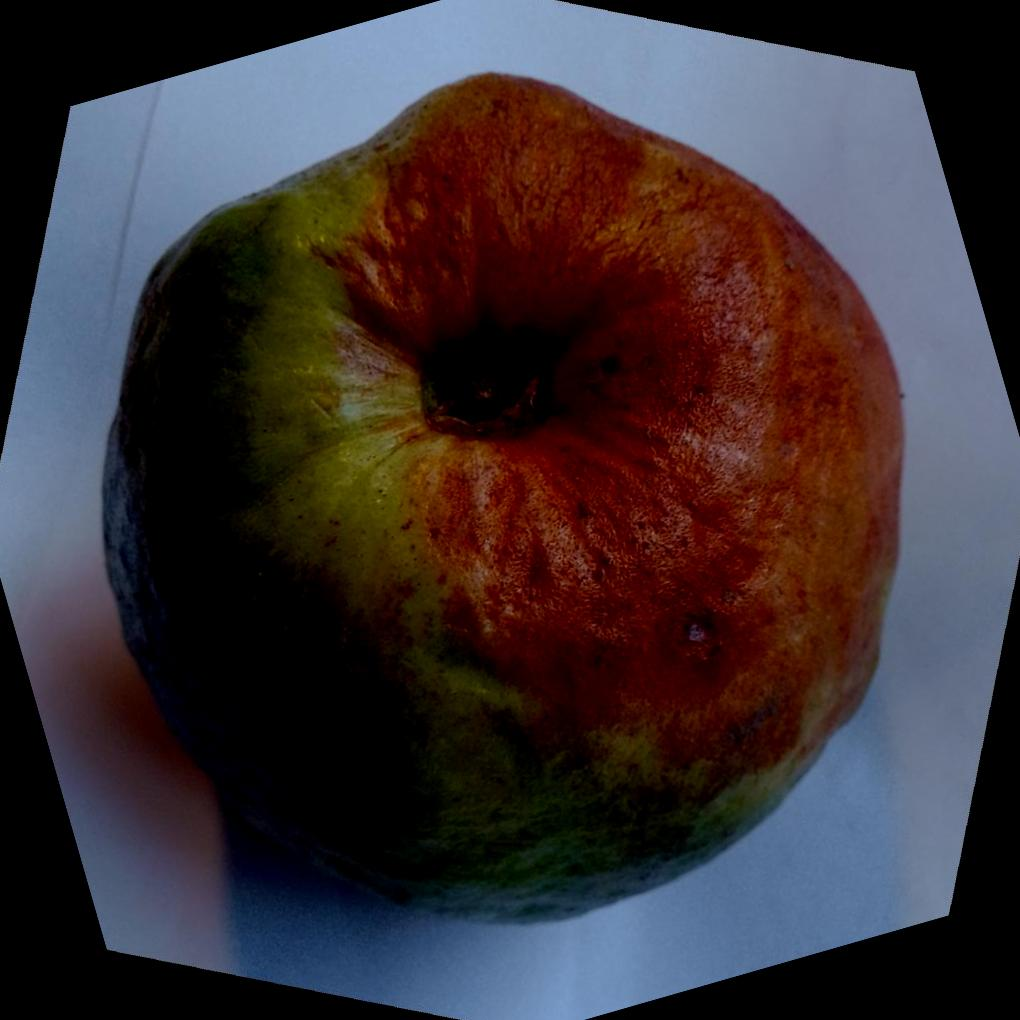FreshOrange: (94, 70, 904, 926)
